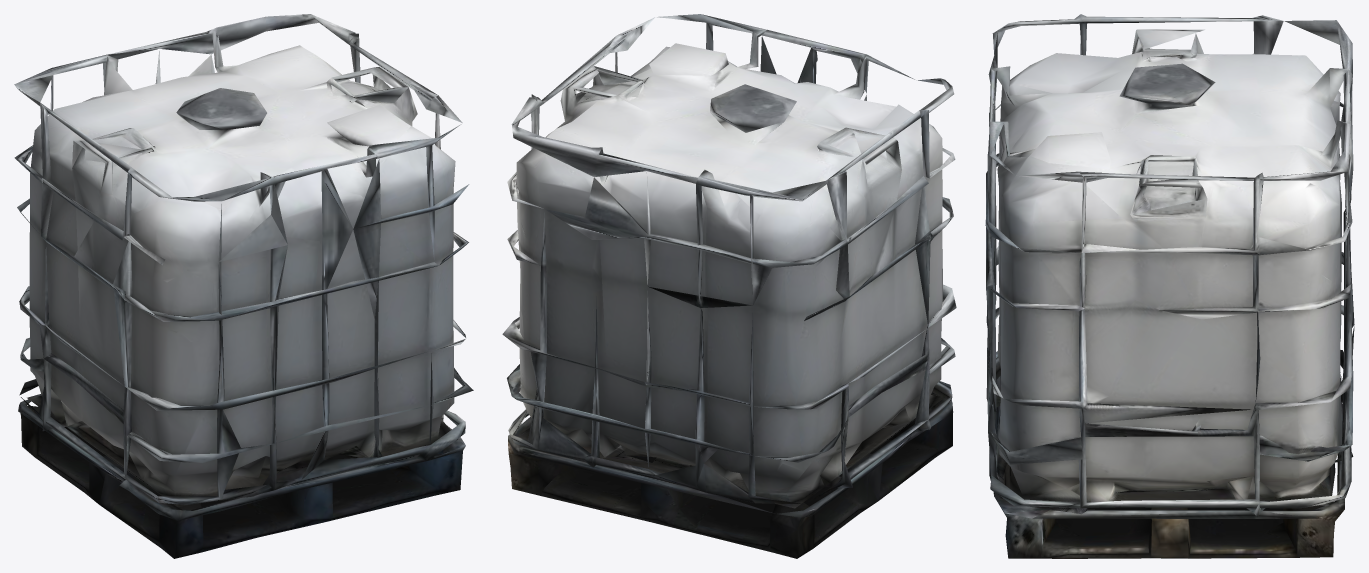
The model's file is qr_ibc.glb.
The picture shows the model from 3 angles, left to right: view 1: azimuth 30°, elevation 25°; view 2: azimuth 150°, elevation 25°; view 3: azimuth 270°, elevation 25°; orthographic projection. The views are drawn at different scales.
Visible parts, largest first — view 1: tripo_node_f07aa551-2777-439b-99e5-b633e6509a26; view 2: tripo_node_f07aa551-2777-439b-99e5-b633e6509a26; view 3: tripo_node_f07aa551-2777-439b-99e5-b633e6509a26.
Boxes of the visible parts, bbox=[...] form: tripo_node_f07aa551-2777-439b-99e5-b633e6509a26: bbox=[14, 14, 473, 558]; tripo_node_f07aa551-2777-439b-99e5-b633e6509a26: bbox=[502, 14, 956, 558]; tripo_node_f07aa551-2777-439b-99e5-b633e6509a26: bbox=[985, 14, 1354, 558].
Size of the model in its own units: 0.912 by 1 by 0.8493.
Materials: 1 (1 with a texture image).
